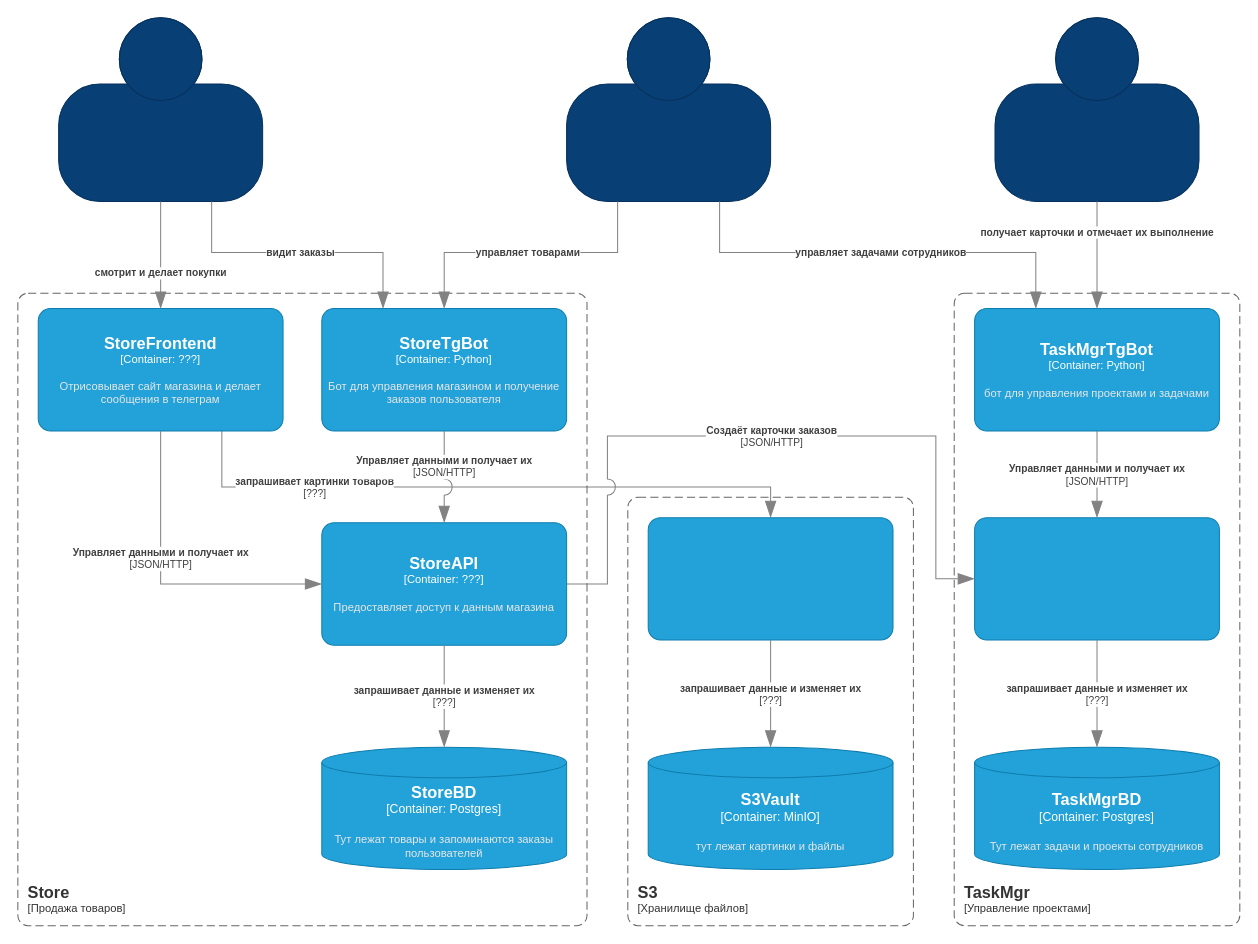
The diagram is 1258 pixels wide and 944 high, and some of its shapes have lost their labels. The centre of each missing label's shape, as x and y in pixels:
S3API [Container: ASP.NET] API для получения доступа к файлам: (770,578)
TaskMgrAPI [Container: ASP.NET] API для управления проектами и задачами: (1096,578)
Покупатель [Person] Человек который заинтерисован в покупке: (160,109)
Сотрудник [Person] разбирает задачи поставленные управляющим: (1096,109)
Хозяин магазина [Person] Управляющий: (668,109)
